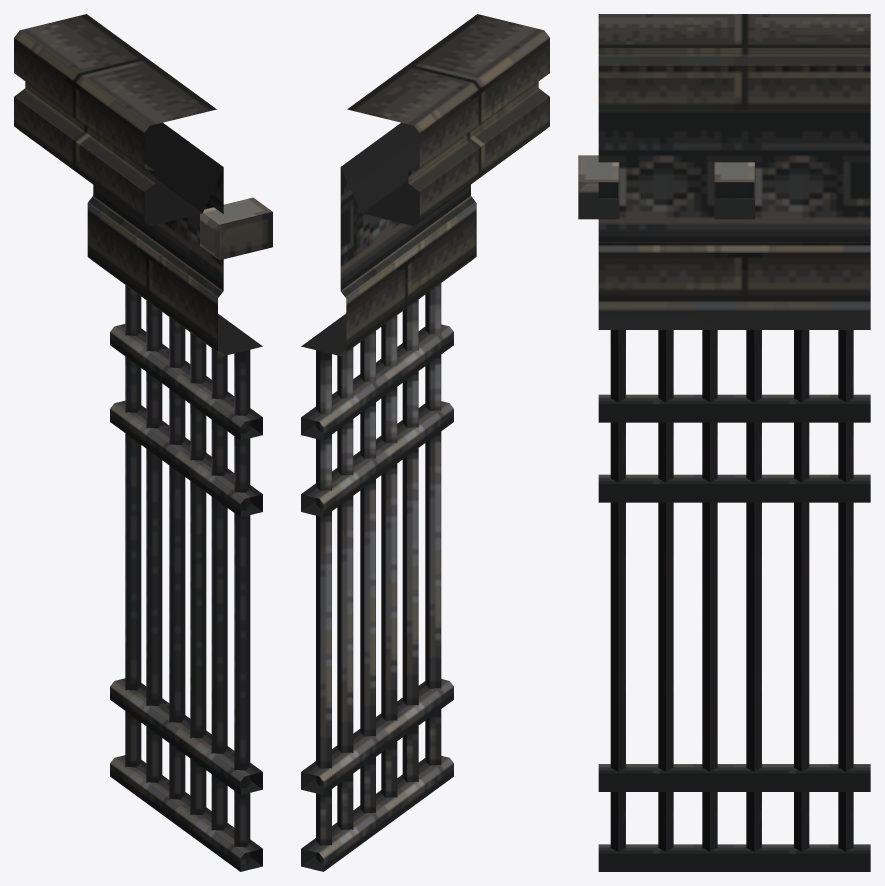
The model's file is EnvMdrMD_Castle_A_Wall_B_Loop_1F.FBX.
The picture shows the model from 3 angles, left to right: view 1: azimuth 30°, elevation 25°; view 2: azimuth 150°, elevation 25°; view 3: azimuth 270°, elevation 25°; orthographic projection. The views are drawn at different scales.
Parts seen in each view (by area): view 1: EnvMdrMD_Castle_A_Wall_B_Loop_1F; view 2: EnvMdrMD_Castle_A_Wall_B_Loop_1F; view 3: EnvMdrMD_Castle_A_Wall_B_Loop_1F.
Boxes of the visible parts, box(x1,y1,x2,y2) form: EnvMdrMD_Castle_A_Wall_B_Loop_1F: box(14, 14, 272, 871); EnvMdrMD_Castle_A_Wall_B_Loop_1F: box(301, 14, 549, 871); EnvMdrMD_Castle_A_Wall_B_Loop_1F: box(578, 14, 870, 871).
Size of the model in its own units: 105 by 650 by 215.
1 material, 1 textured.
